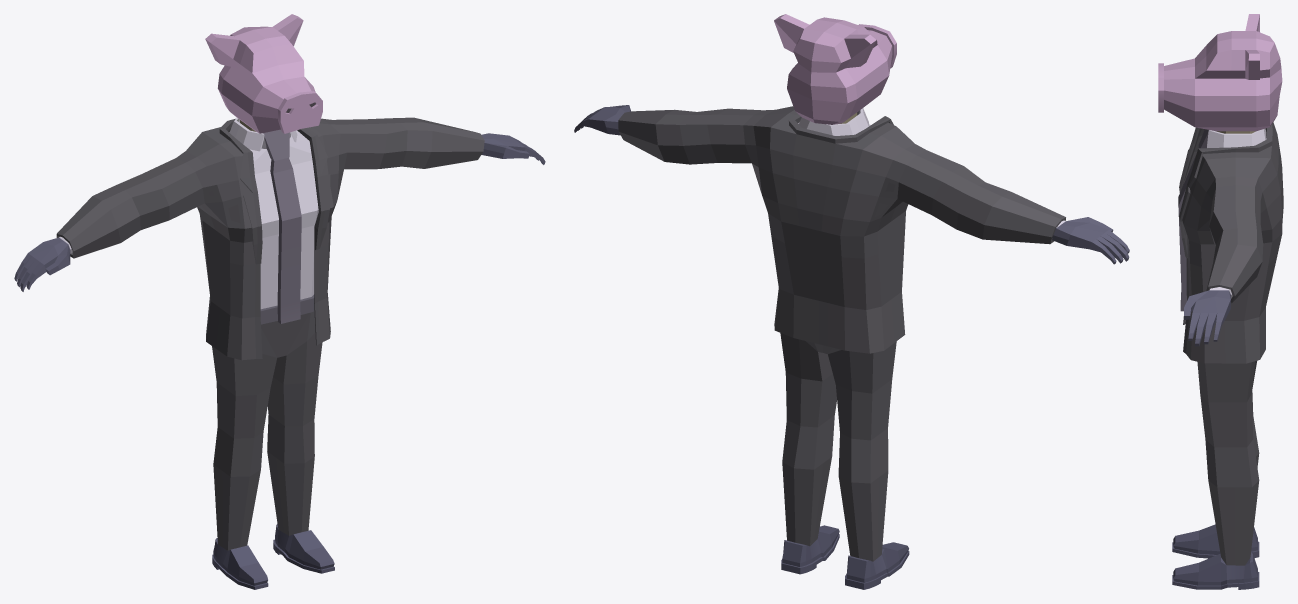
The model's file is robber_test.fbx.
The picture shows the model from 3 angles, left to right: view 1: azimuth 30°, elevation 25°; view 2: azimuth 150°, elevation 25°; view 3: azimuth 270°, elevation 25°; orthographic projection. The views are drawn at different scales.
Visible parts, largest first — view 1: body, suit, head, tie; view 2: suit, body, head; view 3: suit, body, head, tie.
Part boxes in pixels (x1,y1,x2,y2): body: (14,118,545,589); suit: (56,117,484,360); head: (205,14,322,133); tie: (263,129,301,323); suit: (618,106,1065,353); body: (574,105,1129,589); head: (774,14,896,124); suit: (1179,122,1283,363); body: (1172,128,1266,589); head: (1158,14,1282,131); tie: (1178,129,1215,311).
Size of the model in its own units: 177 by 170 by 36.19.
